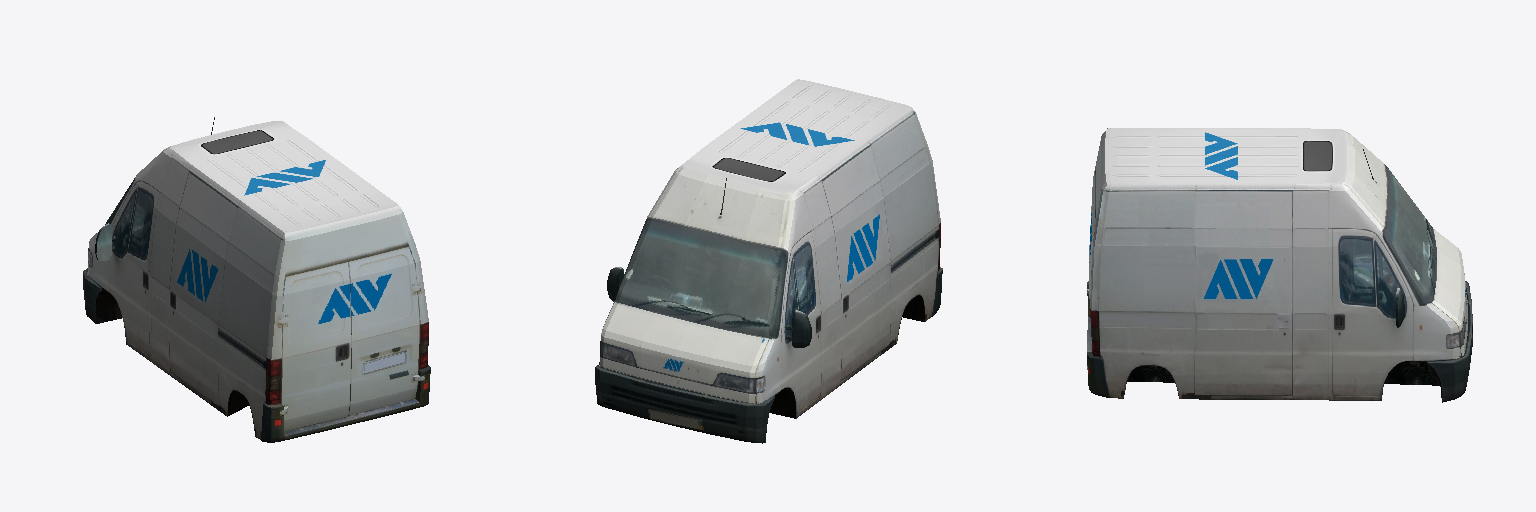
The picture shows the model from 3 angles: view 1: azimuth 30°, elevation 25°; view 2: azimuth 150°, elevation 25°; view 3: azimuth 270°, elevation 25°; orthographic projection.
Parts seen in each view (by area): view 1: Van.001, Van.005; view 2: Van.001, Van.005; view 3: Van.001.
Boxes of the visible parts, box(x1,y1,x2,y2) form: Van.001: box(83, 121, 430, 442); Van.005: box(95, 223, 111, 260); Van.001: box(595, 79, 942, 443); Van.005: box(792, 310, 811, 347); Van.001: box(1087, 128, 1472, 402).
Size of the model in its own units: 9.06 by 9.2 by 14.87.
1 materials, 1 textured.